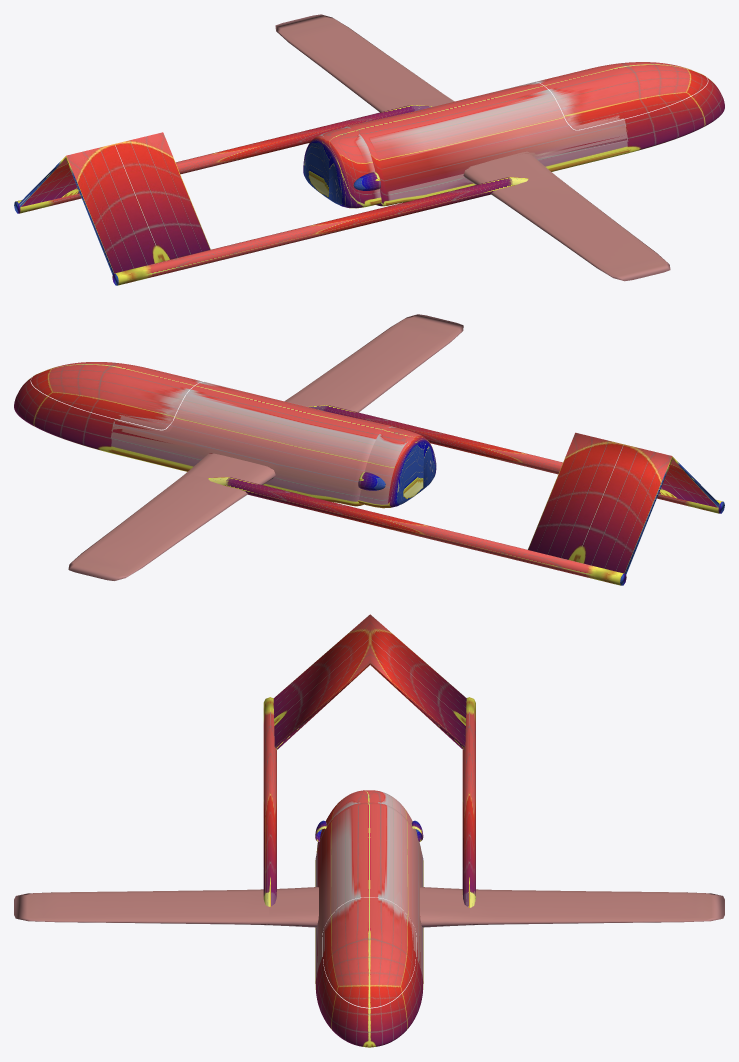
File: drone.glb
3 views of the same model, one above another, from view 1: azimuth 30°, elevation 25°; view 2: azimuth 150°, elevation 25°; view 3: azimuth 270°, elevation 25° (orthographic).
Visible parts, largest first — view 1: Sphere.001; view 2: Sphere.001; view 3: Sphere.001.
Part boxes in pixels (<box>): Sphere.001: <box>14,14,724,285</box>; Sphere.001: <box>14,314,724,585</box>; Sphere.001: <box>14,614,724,1047</box>.
Size of the model in its own units: 3.09 by 0.4936 by 2.86.
1 material, 1 textured.
